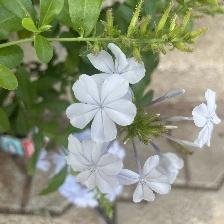chitrak: (69, 72, 139, 144), (66, 134, 130, 194), (86, 46, 146, 87), (189, 85, 224, 149), (120, 158, 171, 201), (160, 148, 186, 184)
